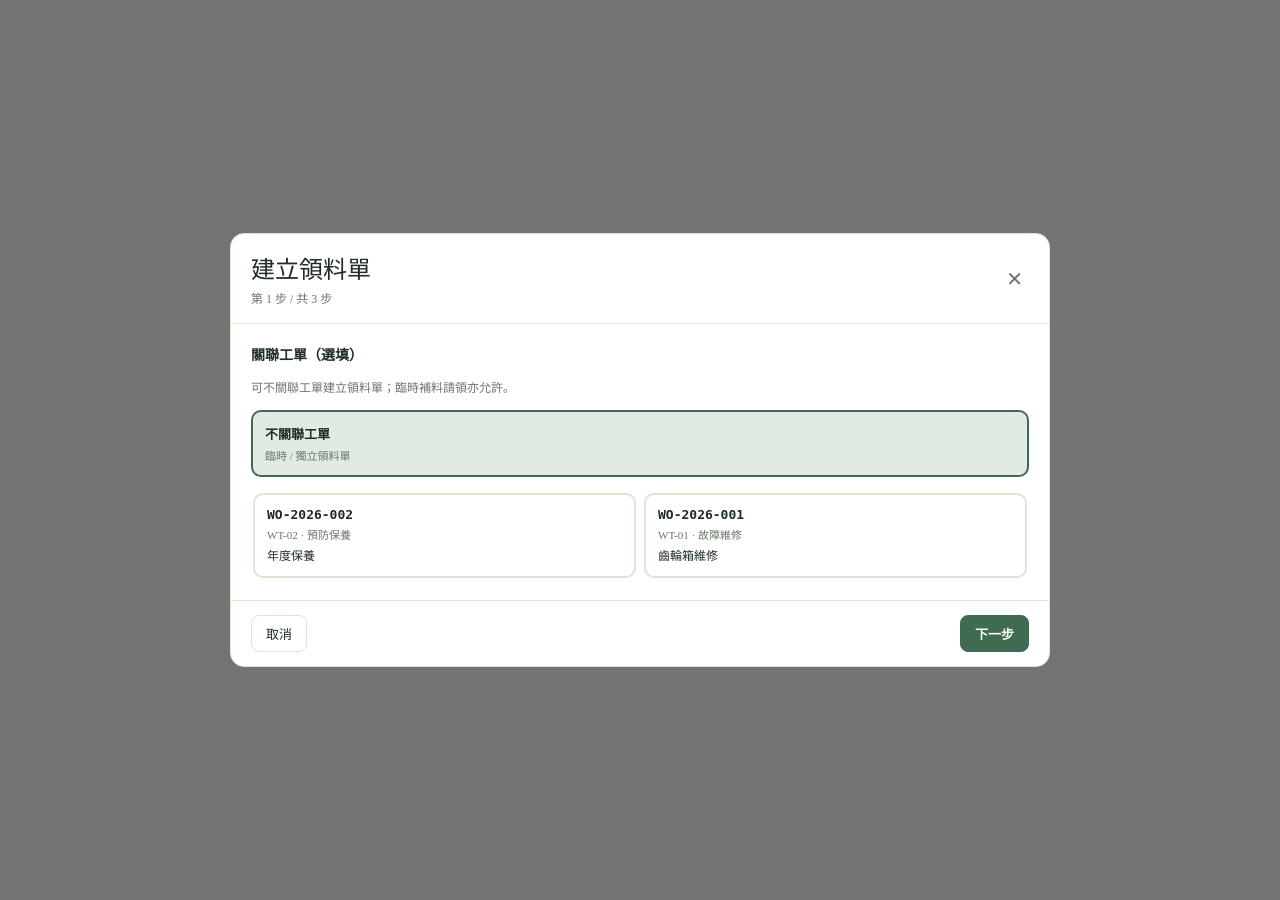
Test: CreateMaterialRequestWizard — Step 2 料件 picker › 進入 Step 2 即呼叫 inv.refresh、顯示搜尋欄與 step indicator 更新
Click the button "下一步" at [994, 634], box [960,615,1029,652]
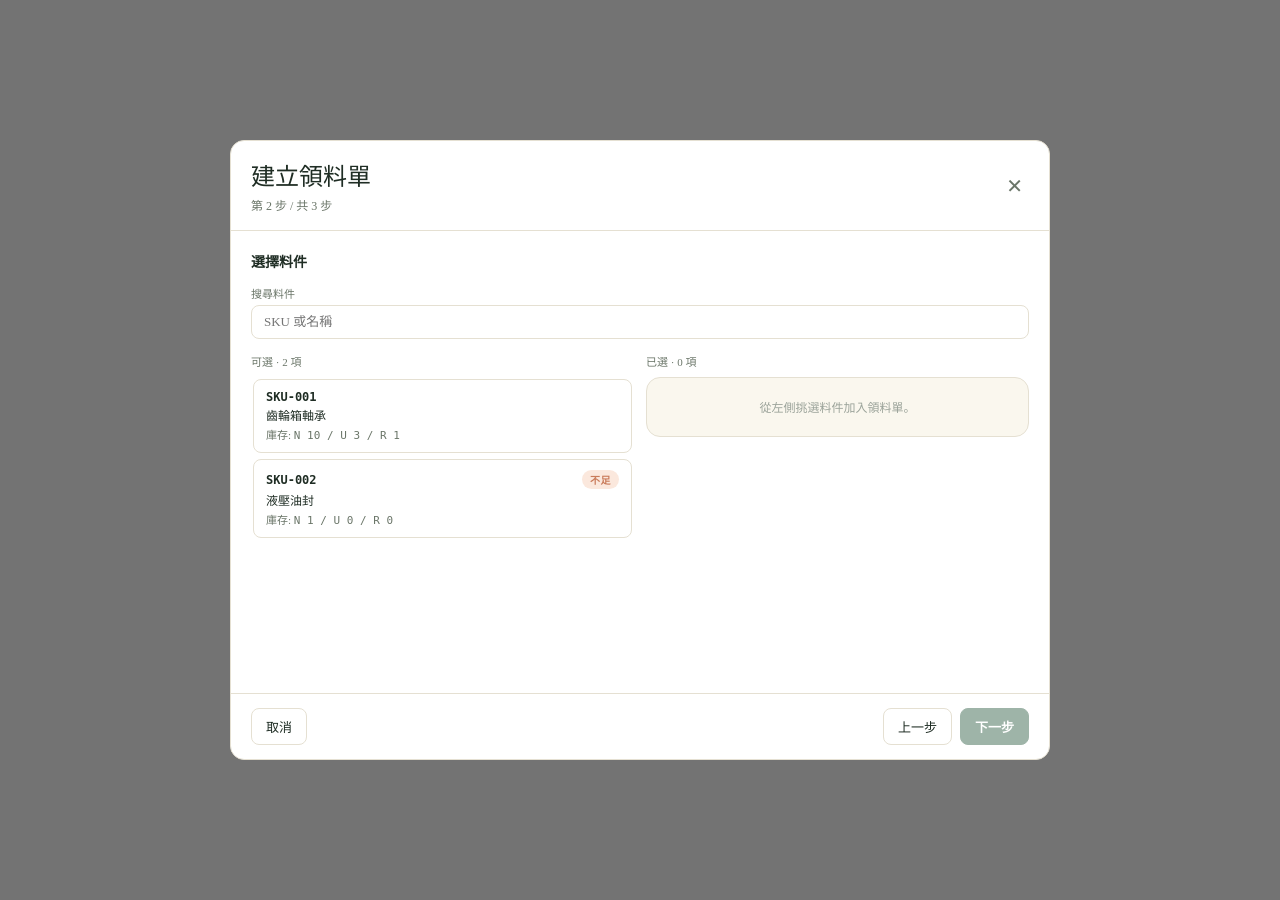
expect the text "第 2 步 / 共 3 步" is shown: met, box [251,199,332,213]
expect the field labelled "搜尋料件" is shown: met, box [251,305,1029,339]
